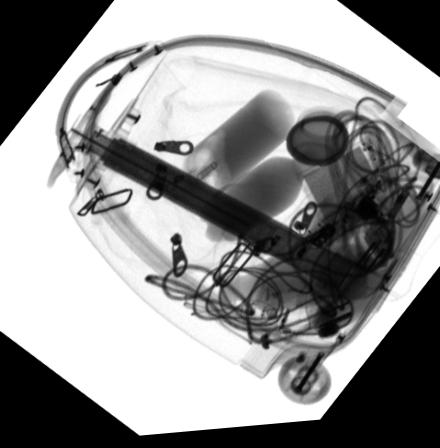Powerbank: (295, 137, 393, 229)
